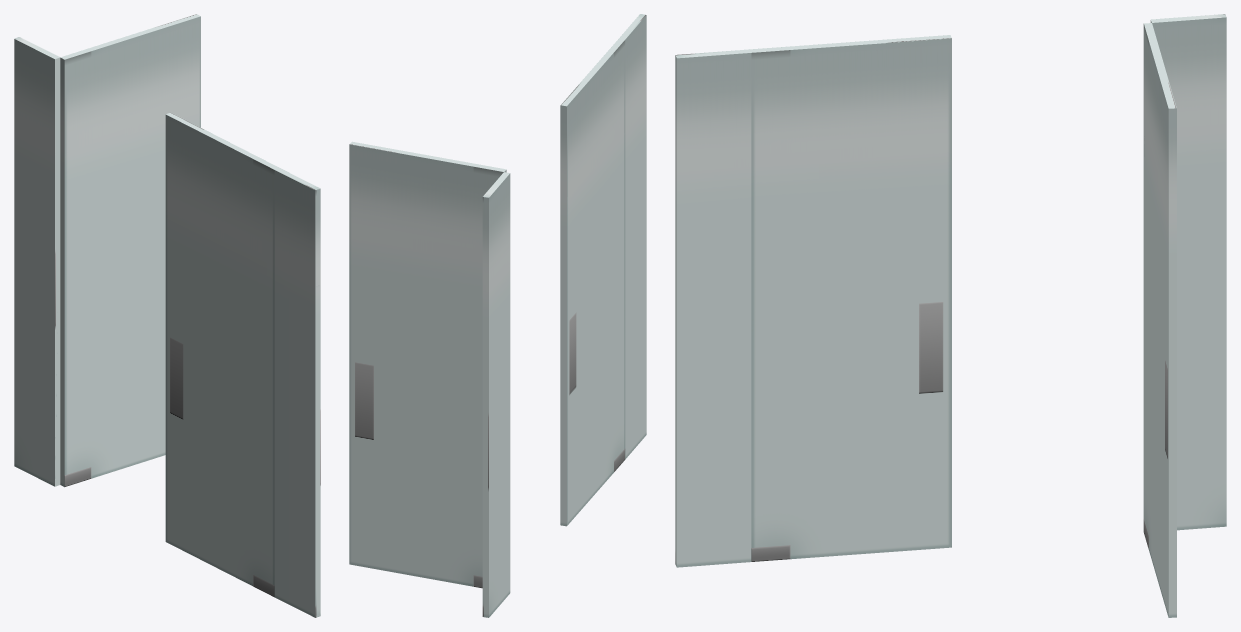
File: GlassDoors01.FBX
3 renders of one model, left to right at view 1: azimuth 30°, elevation 25°; view 2: azimuth 150°, elevation 25°; view 3: azimuth 270°, elevation 25°, orthographic. The views are drawn at different scales.
Parts seen in each view (by area): view 1: Object007; view 2: Object007; view 3: Object007.
Boxes of the visible parts, box(x1,y1,x2,y2) form: Object007: box(14, 14, 320, 617); Object007: box(349, 14, 646, 617); Object007: box(675, 14, 1226, 617).
Size of the model in its own units: 153 by 384 by 377.
